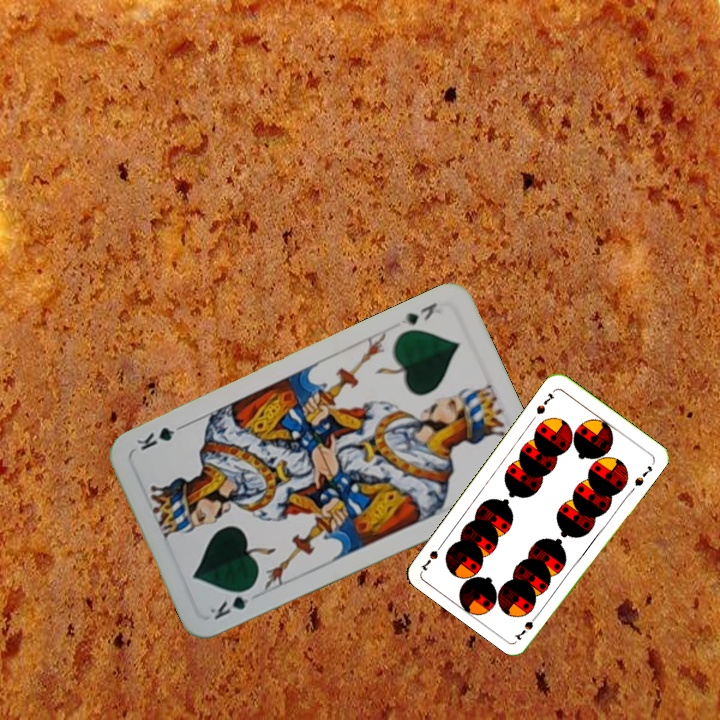GK: (205, 582, 257, 623), (397, 298, 440, 328)
S7: (512, 608, 543, 643), (532, 388, 557, 417)
